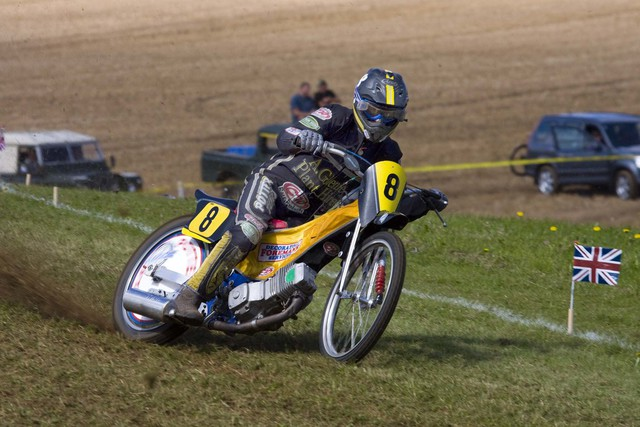helmet: (353, 76, 409, 138)
